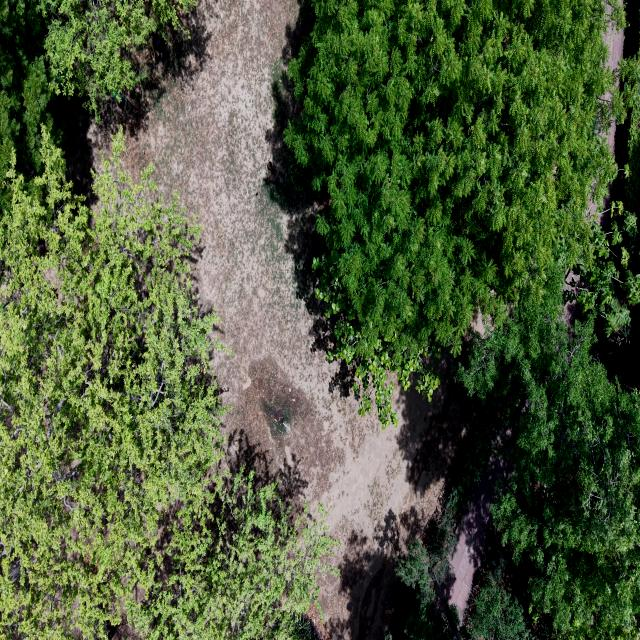DRY_AREA: (61, 0, 476, 639), (440, 456, 513, 619), (441, 456, 512, 617), (589, 174, 620, 230), (601, 178, 619, 228)
VEGETATION_TREE: (285, 0, 639, 639), (286, 0, 639, 638), (0, 0, 333, 638), (0, 129, 334, 639), (285, 0, 623, 424), (459, 57, 639, 638), (460, 266, 639, 638), (459, 270, 639, 638), (461, 296, 639, 639), (0, 0, 194, 178), (568, 2, 639, 386), (397, 421, 499, 639), (570, 54, 639, 342), (35, 0, 195, 114), (397, 422, 496, 602), (568, 201, 639, 341), (0, 0, 55, 179), (397, 496, 459, 639), (397, 499, 459, 604), (464, 552, 535, 639), (467, 552, 530, 639), (621, 3, 639, 214), (400, 592, 458, 639), (291, 616, 318, 639)
